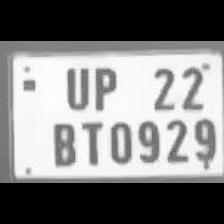0: (105, 118, 133, 164)
2: (146, 63, 176, 111), (161, 115, 189, 165), (176, 64, 206, 110)
9: (133, 115, 161, 165), (190, 114, 216, 166)
B: (48, 116, 78, 168)
P: (89, 62, 119, 113)
T: (77, 118, 105, 168)
U: (59, 62, 89, 112)
